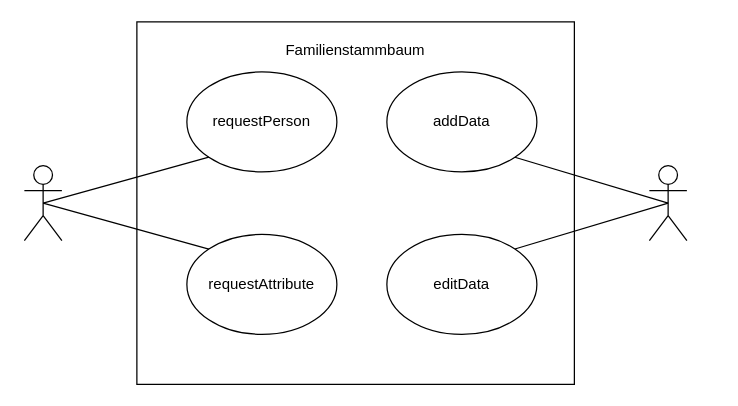
Image size: 738x406. Some labels were removed from this diagram. The shapes that lost their labels are listed below. From the top down, each one's centre as x and y in pixels, then its label:
(42,202): Nutzer
(667,202): Bezugsperson
